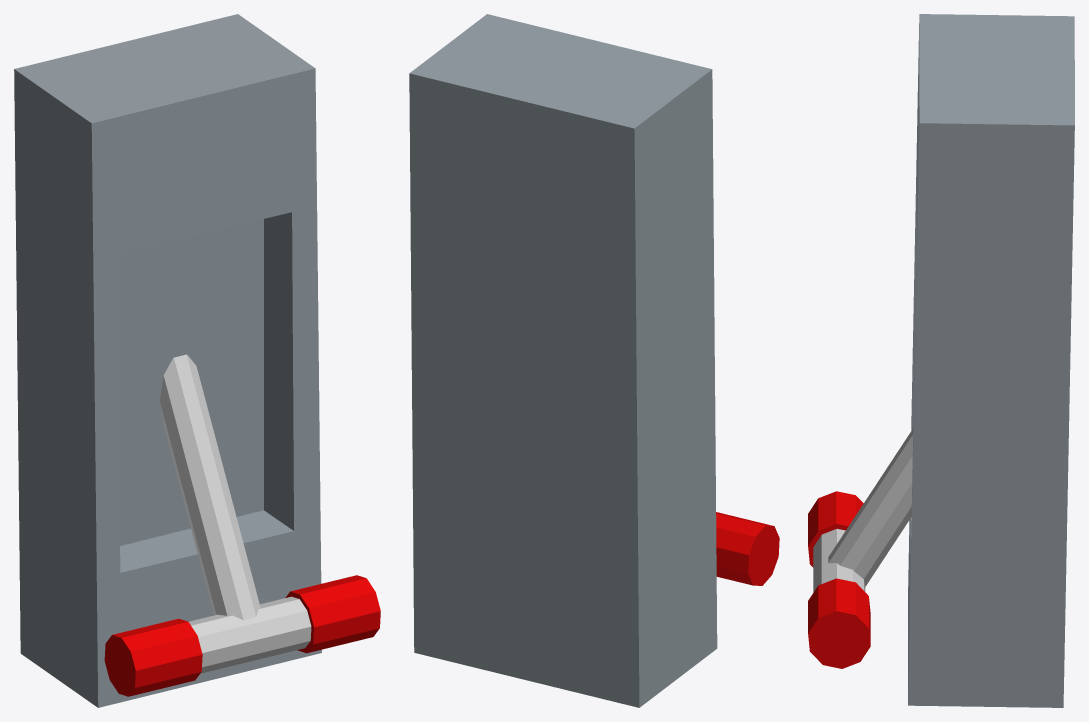
Rendered from PullDownButton.fbx.
3 renders of one model, left to right at view 1: azimuth 30°, elevation 25°; view 2: azimuth 150°, elevation 25°; view 3: azimuth 270°, elevation 25°, orthographic.
Parts seen in each view (by area): view 1: polySurface4, polySurface3; view 2: polySurface4, polySurface3; view 3: polySurface4, polySurface3.
Boxes of the visible parts, x1=… form: polySurface4: x1=14, y1=14, x2=321, y2=707; polySurface3: x1=104, y1=354, x2=380, y2=696; polySurface4: x1=409, y1=14, x2=717, y2=707; polySurface3: x1=716, y1=512, x2=779, y2=585; polySurface4: x1=908, y1=14, x2=1074, y2=707; polySurface3: x1=808, y1=428, x2=913, y2=668.
Size of the model in its own units: 2.82 by 6.41 by 2.65.
